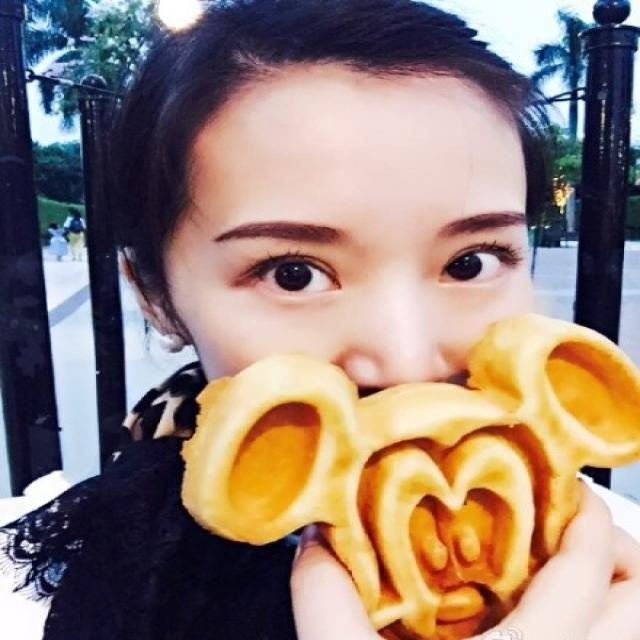nomask: (191, 68, 551, 465)
